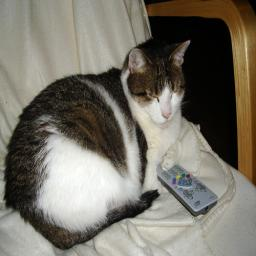catnose: (161, 111, 172, 121)
